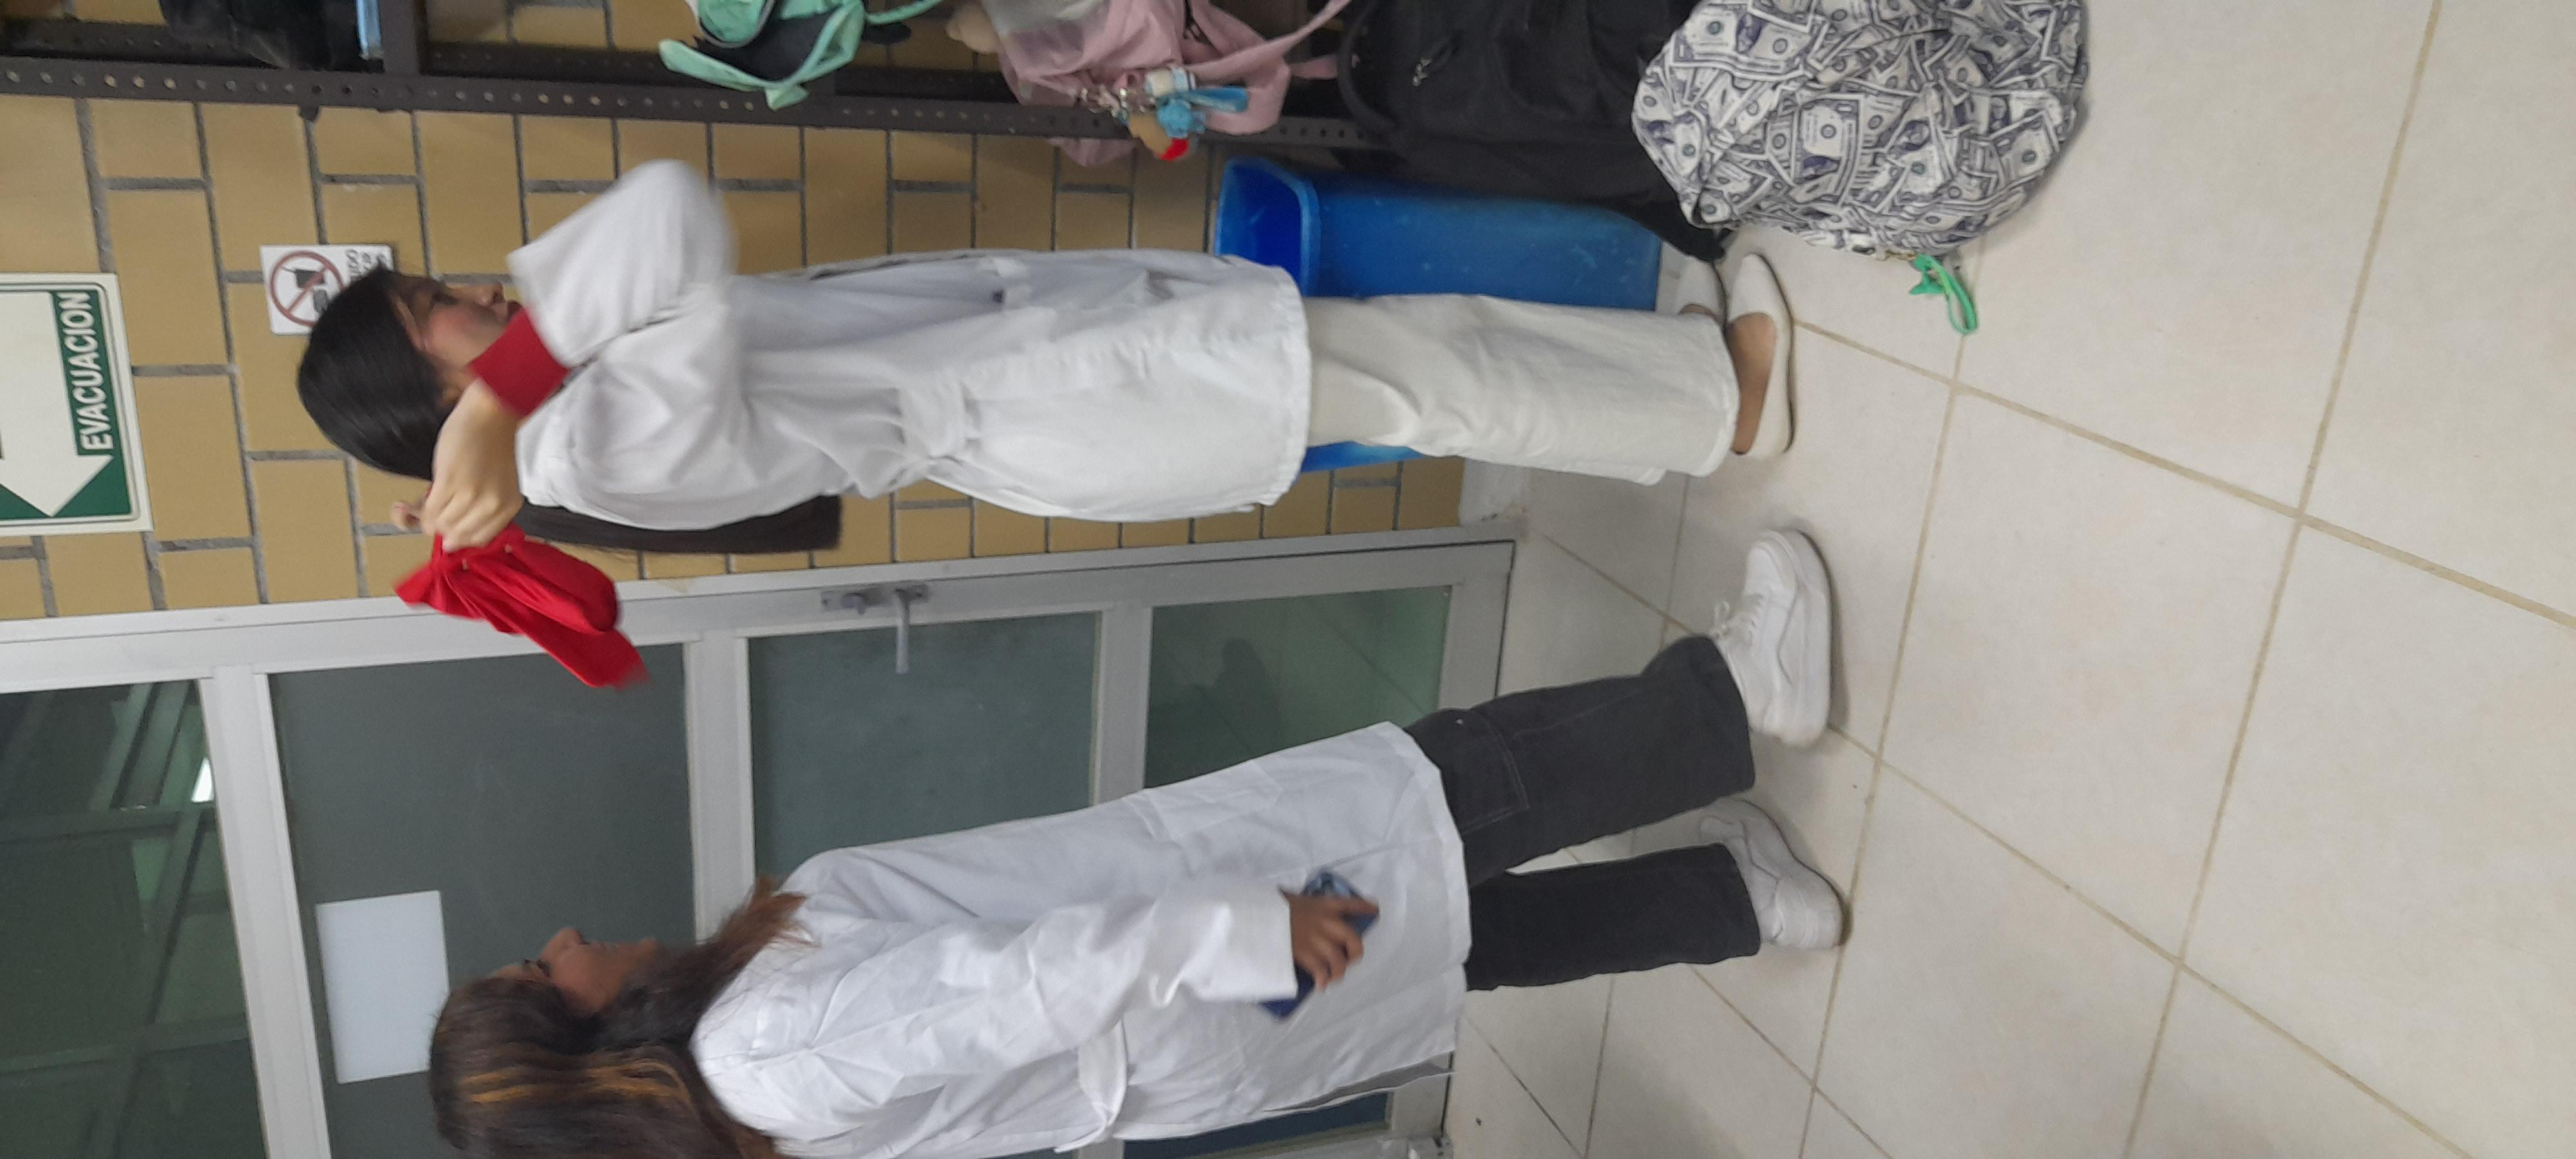Bata-Correcta: (0, 194, 1396, 831), (1051, 135, 2218, 806)
